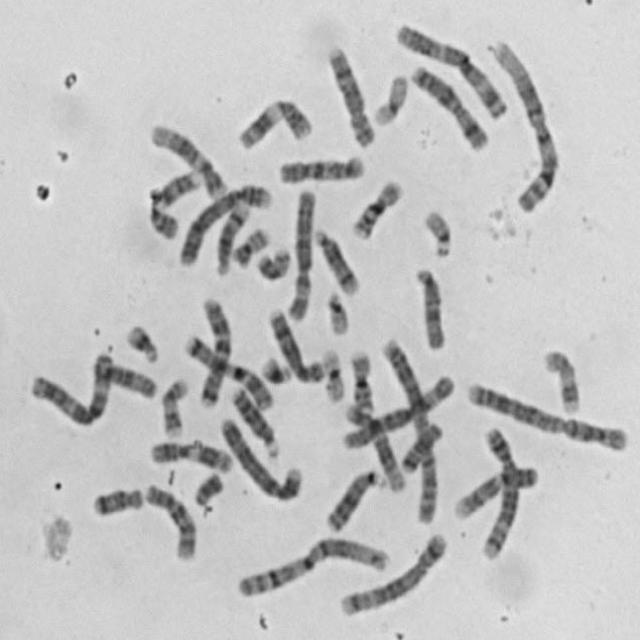A1: (486, 32, 564, 215), (231, 528, 391, 600)
A2: (461, 375, 631, 454), (379, 333, 443, 527)
A3: (390, 16, 511, 121), (25, 344, 115, 430)
B4: (174, 178, 272, 269), (215, 411, 305, 504)
B5: (336, 526, 450, 619), (474, 421, 523, 562)
C10: (141, 476, 200, 563), (275, 149, 369, 186)
C11: (233, 92, 316, 151), (144, 434, 235, 475)
C12: (146, 115, 229, 200), (338, 396, 406, 492)
C6: (336, 368, 456, 450), (281, 180, 317, 322)
C7: (182, 328, 278, 413), (195, 292, 233, 407)
C8: (322, 38, 378, 149), (264, 302, 328, 386)
C9: (449, 458, 543, 522), (144, 162, 203, 240)
D13: (321, 464, 386, 534), (225, 379, 280, 460)
D14: (310, 222, 362, 297), (211, 193, 253, 277)
D15: (89, 349, 160, 402), (410, 262, 448, 352)
E16: (347, 172, 406, 242), (345, 345, 377, 413)
E17: (538, 342, 583, 417), (156, 372, 191, 439)
E18: (398, 415, 445, 475), (87, 480, 147, 520)
F19: (368, 66, 410, 128), (317, 343, 348, 405)
F20: (225, 220, 273, 269), (253, 241, 294, 283)
G21: (121, 317, 162, 364), (257, 352, 295, 386)
G22: (419, 202, 455, 260), (322, 285, 352, 338)
X: (406, 58, 491, 153)
Y: (188, 466, 225, 508)
